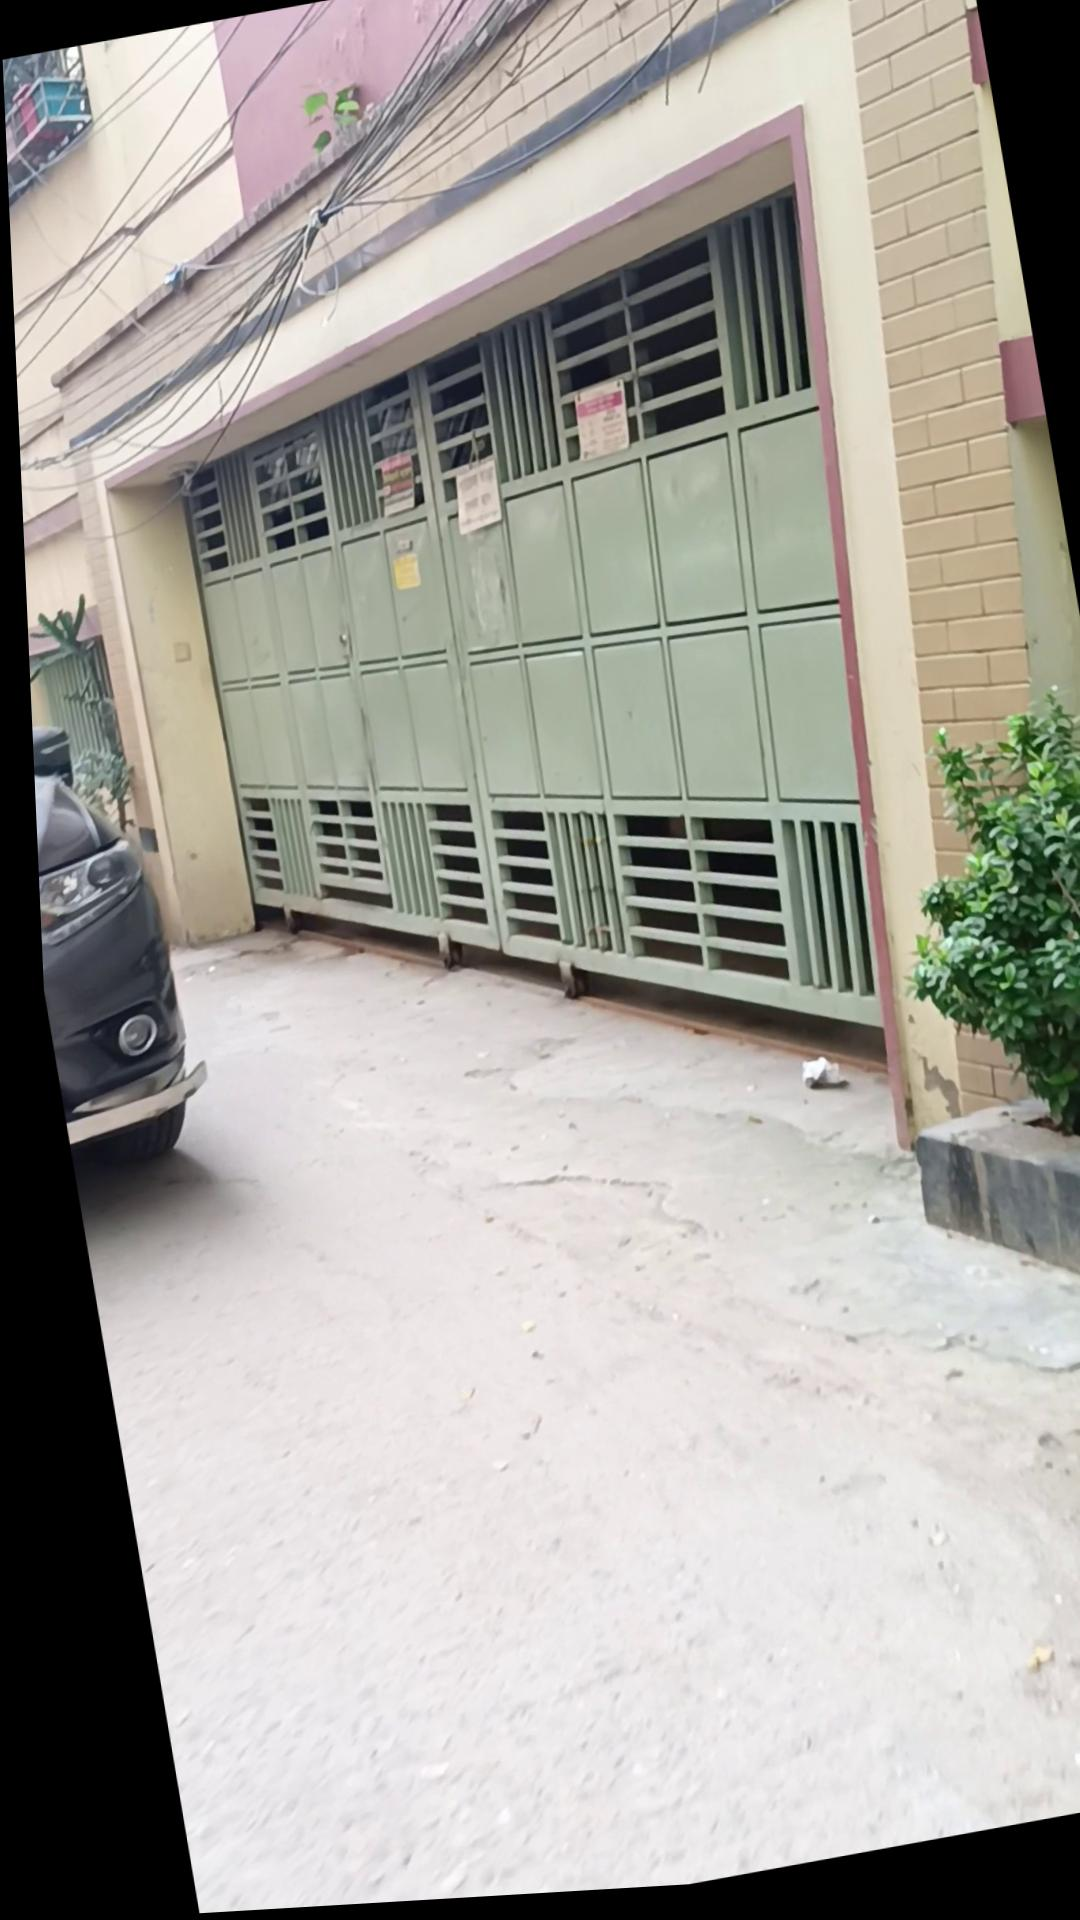Car: (25, 702, 209, 1177)
Crosswalk: (892, 1085, 1080, 1368)
Potted-plant: (29, 776, 1080, 1920)
